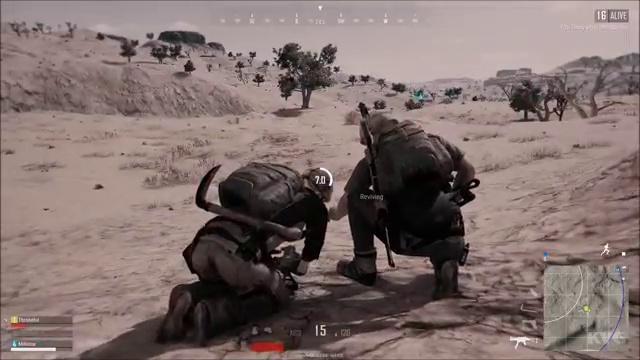Player: (338, 97, 490, 266), (173, 141, 329, 298)
